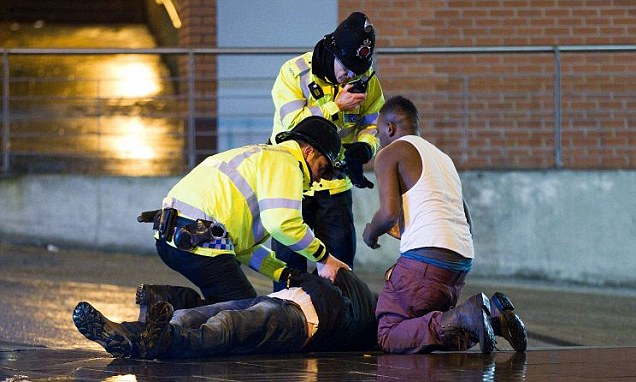Person: (365, 98, 527, 353), (156, 116, 352, 271), (271, 11, 380, 114)
